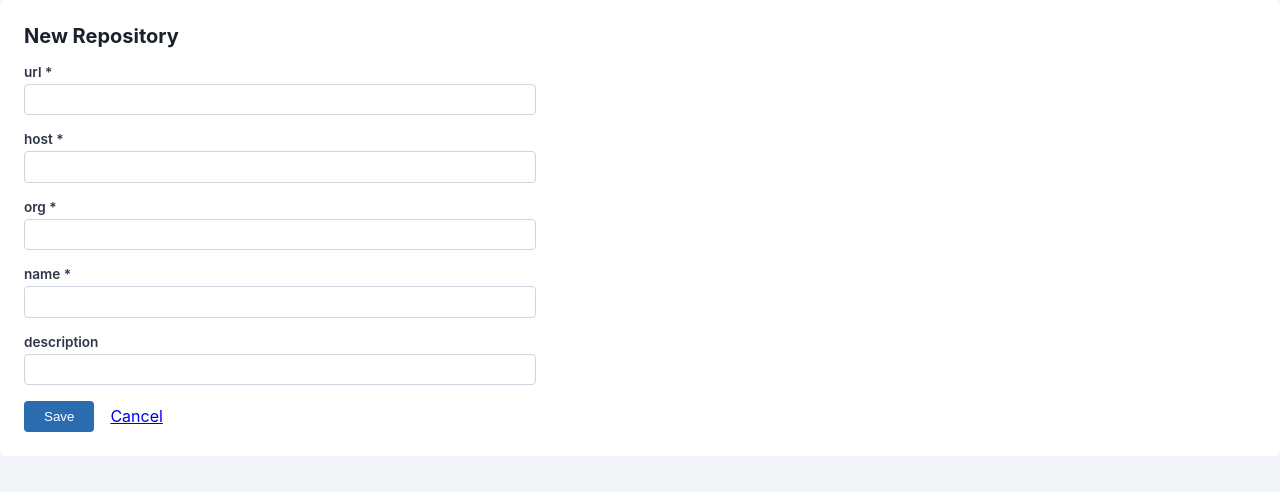
Test: NodeEditor, registering a repository › says why a remote is not one, rather than waiting for the server to
The width and height of the screenshot is (1280, 492).
Type "https://example.com/page" into the field with id "field-url" at (280, 100), box [24, 84, 536, 115]
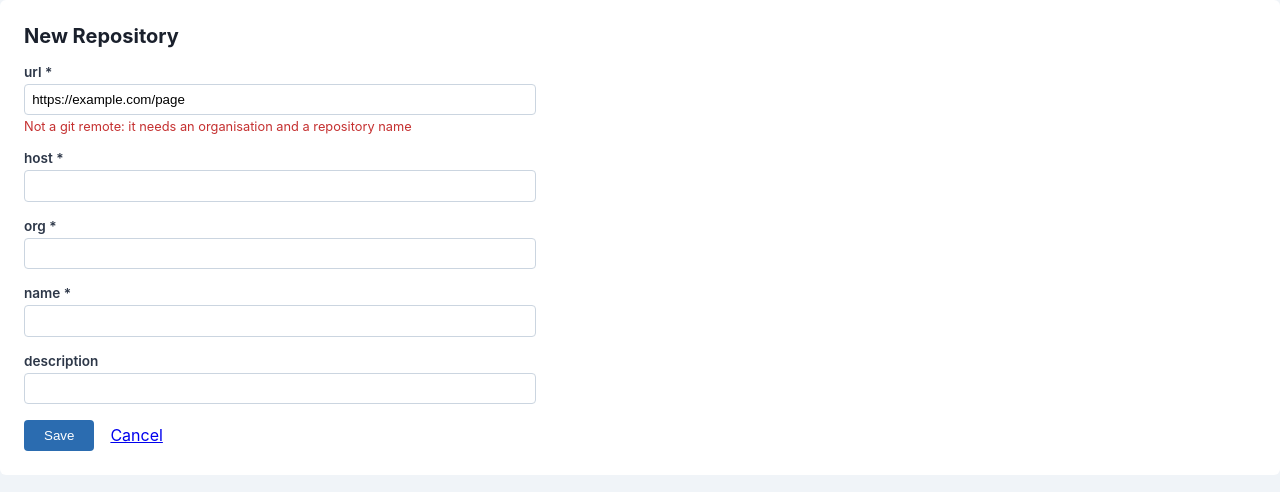
Now the text with test id "remote-key" shows "organisation and a repository", box [24, 119, 412, 134]
